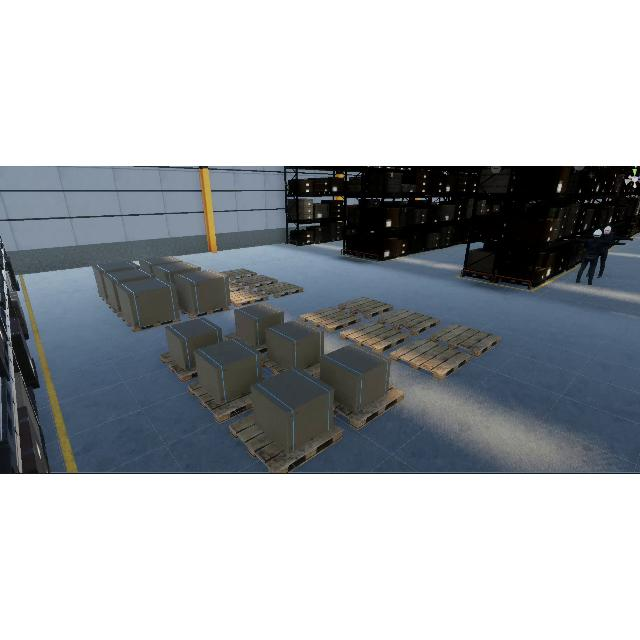wooden_pallet: (229, 413, 344, 473), (390, 337, 471, 381), (334, 384, 404, 431), (188, 381, 253, 424), (428, 322, 502, 357), (339, 321, 410, 356), (378, 308, 441, 335), (300, 305, 361, 332), (338, 296, 394, 320), (160, 352, 198, 383), (121, 315, 180, 334), (258, 281, 304, 298), (178, 305, 230, 320), (230, 287, 269, 307), (236, 274, 278, 290), (218, 271, 258, 284), (229, 280, 246, 293)
